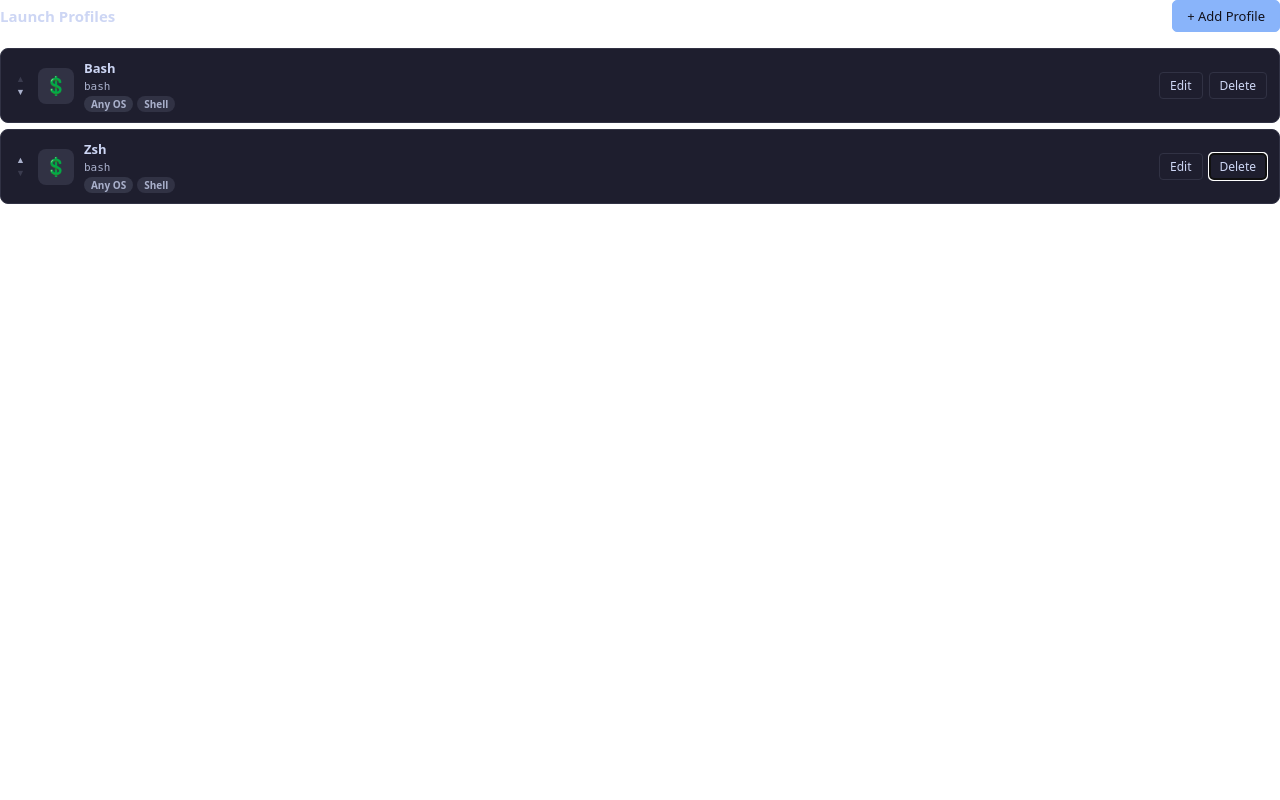
Test: Deleting a profile › asks in a modal alertdialog, with the keyboard on Cancel
This screenshot has width=1280, height=800.
What coordinates should you click on to do the following:
click the button with aria-label "Delete profile"
I would click on:
 (1238, 166)
Its box is x1=1208 y1=153 x2=1267 y2=180.
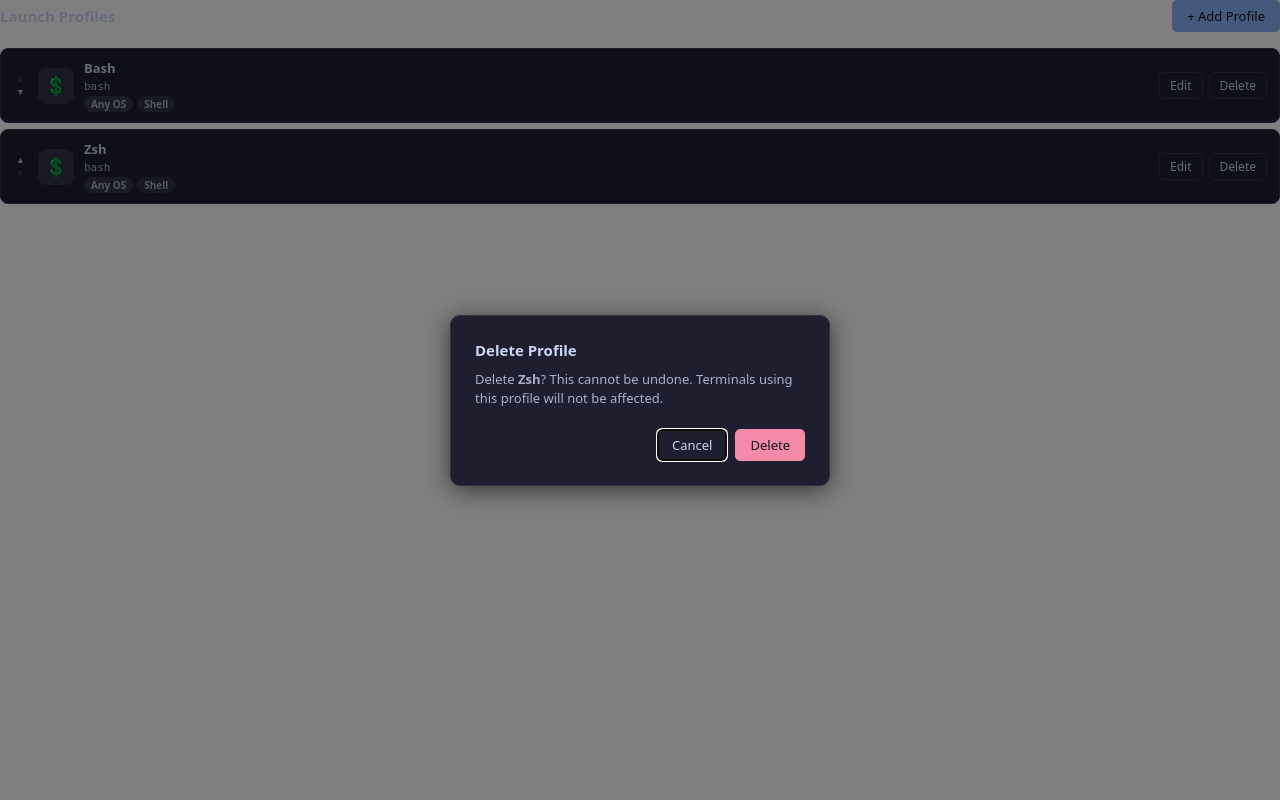
Expected: the heading "Delete Profile" is shown, x1=475 y1=340 x2=577 y2=360
Expected: the button "Cancel" is shown, x1=657 y1=428 x2=728 y2=460
